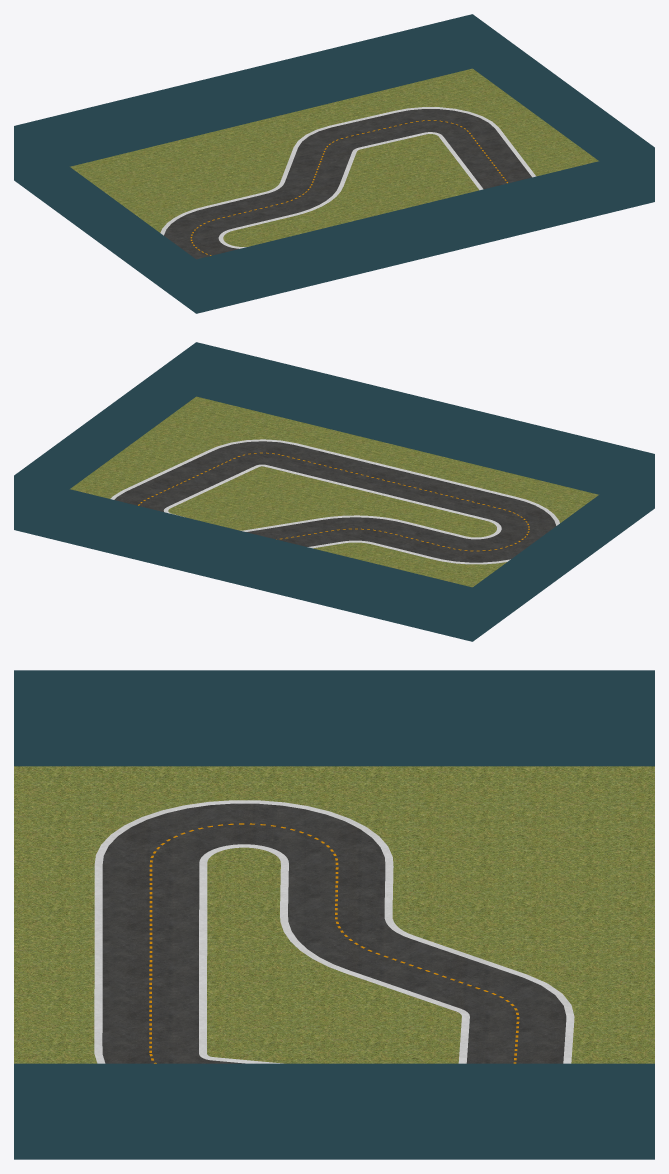
The model's file is reInvent2019_wide_mirrored.dae.
3 views of the same model, one above another, from view 1: azimuth 30°, elevation 25°; view 2: azimuth 150°, elevation 25°; view 3: azimuth 270°, elevation 25° (orthographic). The views are drawn at different scales.
Parts seen in each view (by area): view 1: wall, field, road, ol, il; view 2: wall, field, road, ol, il, cl; view 3: field, wall, road, ol, il, cl.
Part boxes in pixels (x1,y1,x2,y2): wall: [14, 14, 654, 313]; field: [70, 68, 598, 246]; road: [164, 109, 531, 259]; ol: [160, 107, 536, 235]; il: [218, 132, 483, 248]; wall: [14, 342, 654, 641]; field: [70, 396, 598, 587]; road: [114, 441, 556, 562]; ol: [110, 439, 559, 564]; il: [163, 464, 501, 539]; cl: [138, 452, 529, 551]; field: [14, 766, 654, 1063]; wall: [14, 670, 654, 1159]; road: [102, 803, 566, 1063]; ol: [94, 800, 574, 1063]; il: [199, 844, 469, 1063]; cl: [149, 823, 519, 1063].
Size of the model in its own units: 8.82 by 6.07 by 1.
Materials: 6 (6 with a texture image).
